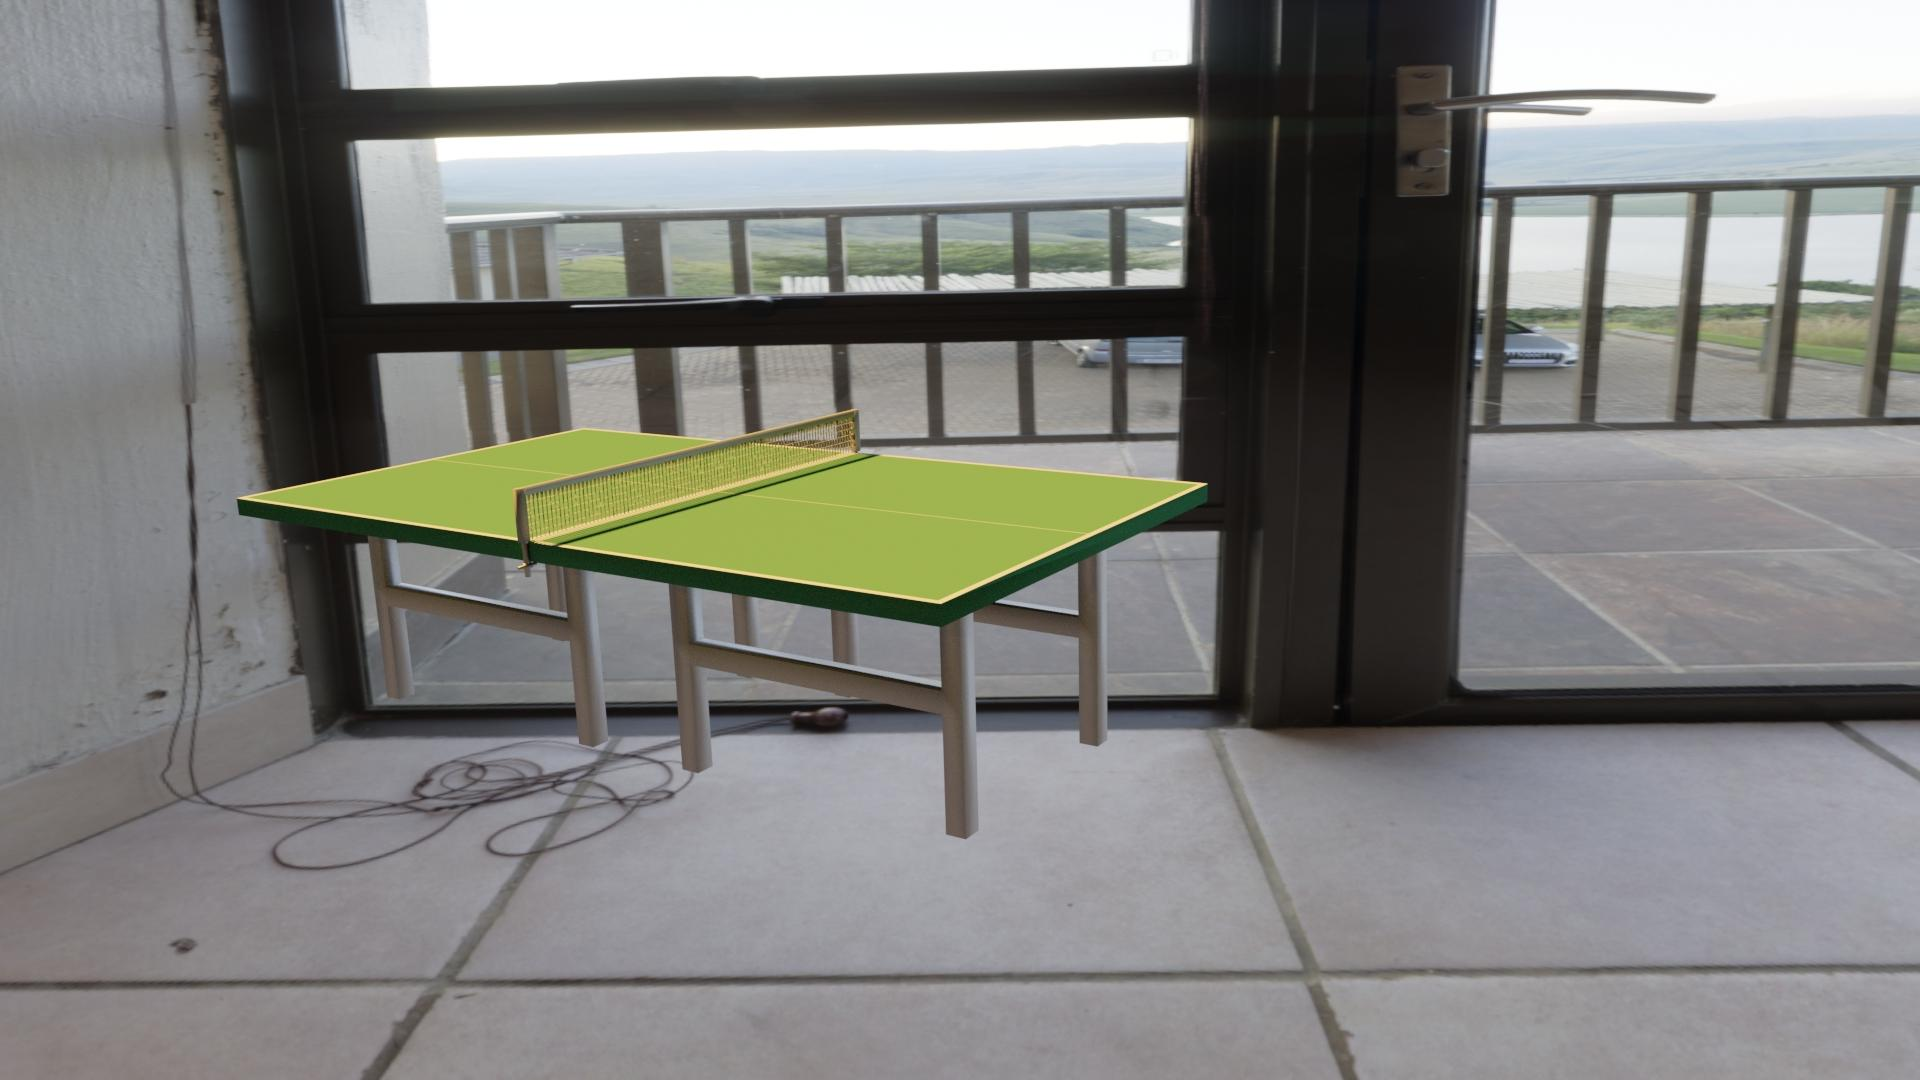table: (245, 429, 1199, 600)
